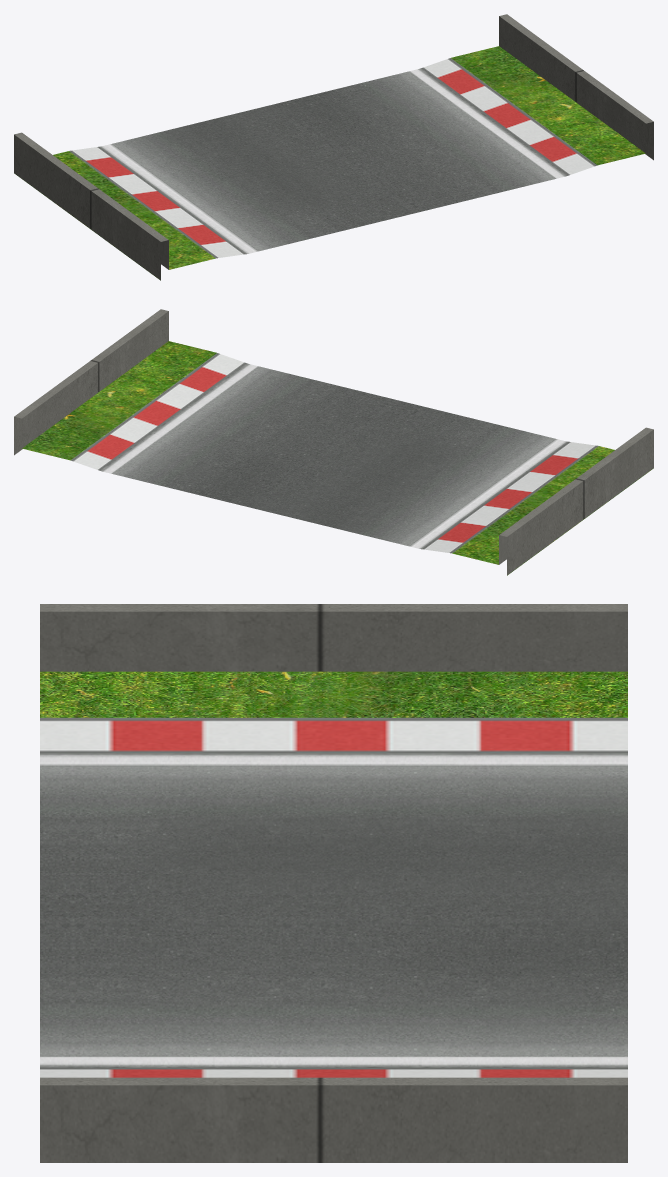
The model's file is str_short.fbx.
The picture shows the model from 3 angles, top to bottom: view 1: azimuth 30°, elevation 25°; view 2: azimuth 150°, elevation 25°; view 3: azimuth 270°, elevation 25°; orthographic projection. The views are drawn at different scales.
Visible parts, largest first — view 1: 12; view 2: 12; view 3: 12.
Part boxes in pixels (box(x1,y1,x2,y2)): 12: box(14, 14, 653, 280); 12: box(14, 309, 653, 575); 12: box(40, 604, 627, 1162).
Bounding box in the file's own units: 177 × 13.34 × 91.45.
